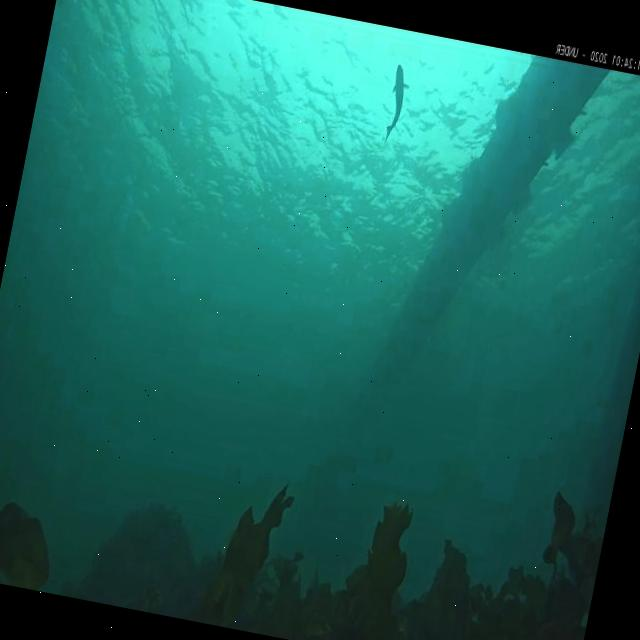fish: (384, 65, 412, 141)
